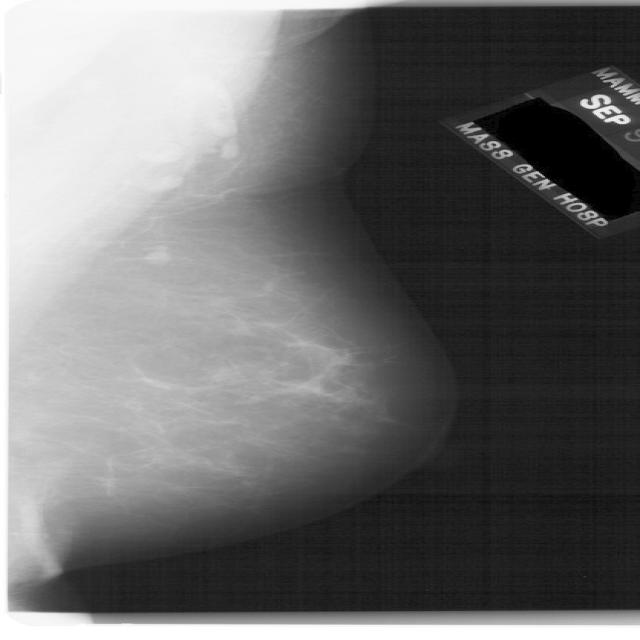tumour: (139, 242, 170, 266)
